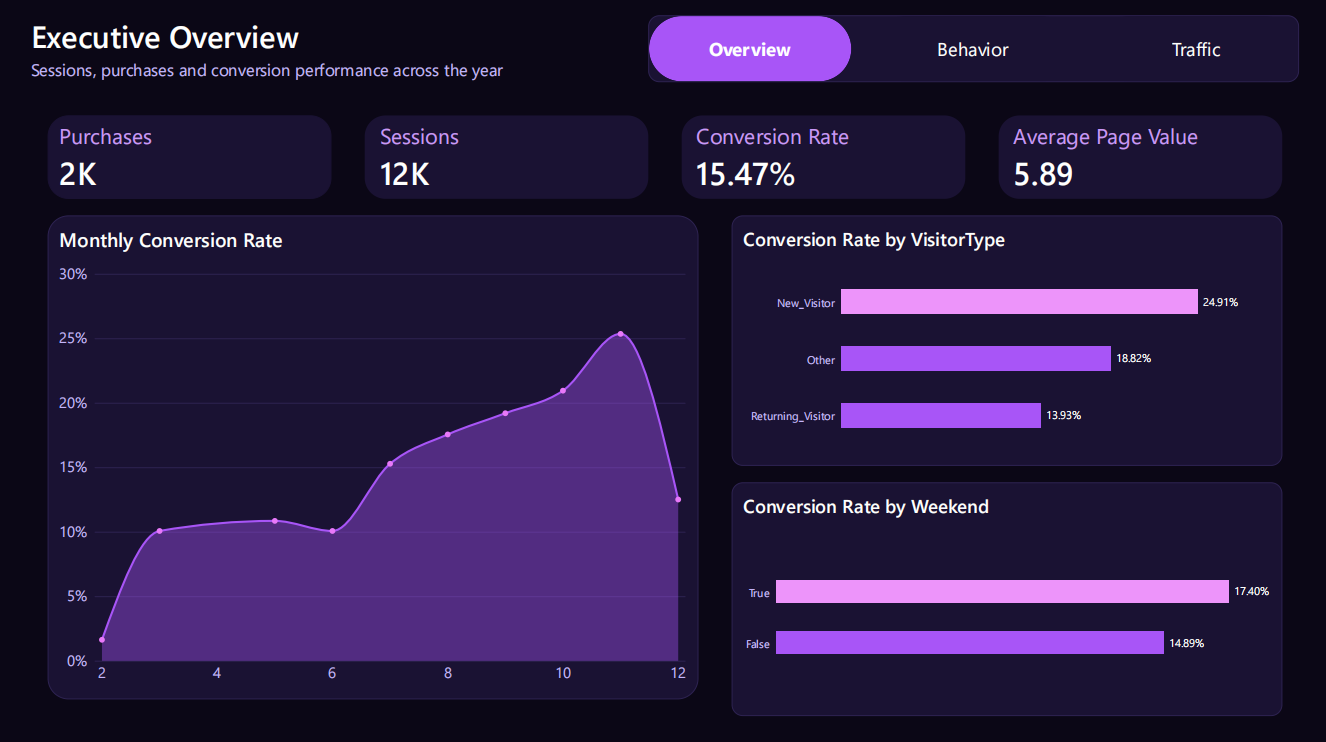

This screenshot's page, from the dashboard's own definition file:
{"tool":"powerbi","page":{"name":"Overview","canvas":[1920,1080],"ordinal":0},"visuals":[{"type":"areaChart","title":"Monthly Conversion Rate","fields":{"Category":["Shoppers.Month Num"],"Y":["Shoppers.Conversion Rate"]},"box":[72,312,936,696],"z":0},{"type":"clusteredBarChart","fields":{"Category":["Shoppers.VisitorType"],"Y":["Shoppers.Conversion Rate"]},"box":[1056,312,792,360],"z":1000},{"type":"textbox","title":"Executive Overview","box":[48,24,700,100],"z":2000},{"type":"pageNavigator","box":[936,24,936,96],"z":3000},{"type":"cardVisual","fields":{"Data":["Shoppers.Sessions"]},"box":[528,168,408,120],"z":4000},{"type":"cardVisual","fields":{"Data":["Shoppers.Average Page Value"]},"box":[1440,168,408,120],"z":5000},{"type":"cardVisual","fields":{"Data":["Shoppers.Conversion Rate"]},"box":[984,168,408,120],"z":6000},{"type":"cardVisual","fields":{"Data":["Shoppers.Purchases"]},"box":[72,168,408,120],"z":7000},{"type":"clusteredBarChart","fields":{"Category":["Shoppers.Weekend"],"Y":["Shoppers.Conversion Rate"]},"box":[1056,696,792,336],"z":8000}]}

Visuals, with their boxes in screenshot pixels (x1, y1, x2, y2), scaled from the page's 1920x1080 canvas onto the 1326x742 screenshot:
"Monthly Conversion Rate" areaChart: box(50, 214, 696, 693)
clusteredBarChart - Shoppers.VisitorType x Shoppers.Conversion Rate: box(729, 214, 1276, 462)
"Executive Overview" textbox: box(33, 16, 517, 85)
pageNavigator: box(646, 16, 1293, 82)
cardVisual - Shoppers.Sessions: box(365, 115, 646, 198)
cardVisual - Shoppers.Average Page Value: box(995, 115, 1276, 198)
cardVisual - Shoppers.Conversion Rate: box(680, 115, 961, 198)
cardVisual - Shoppers.Purchases: box(50, 115, 332, 198)
clusteredBarChart - Shoppers.Weekend x Shoppers.Conversion Rate: box(729, 478, 1276, 709)
